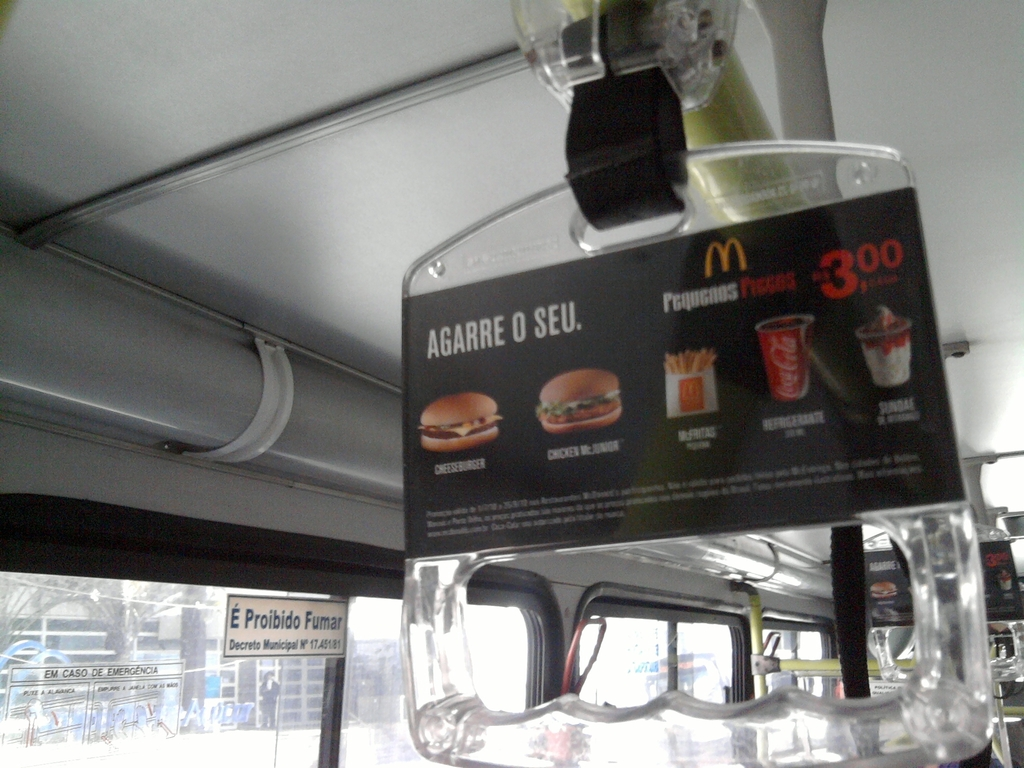Hamburger: (536, 367, 621, 435), (414, 392, 503, 452)
